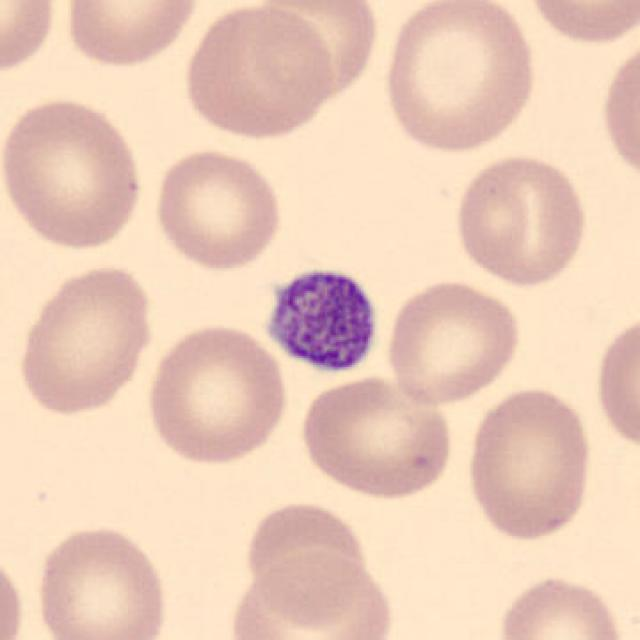Platelets: (254, 257, 386, 379)
RBC: (377, 0, 542, 157), (0, 92, 149, 254), (12, 261, 156, 420), (178, 0, 338, 143), (142, 319, 292, 469), (462, 382, 596, 544), (295, 372, 455, 502), (450, 148, 592, 289), (382, 275, 524, 409), (150, 145, 286, 273), (31, 520, 172, 640), (228, 545, 394, 638), (244, 0, 384, 108), (240, 497, 372, 608), (59, 0, 202, 71), (493, 571, 631, 640), (590, 307, 638, 458), (595, 31, 640, 190), (519, 0, 638, 48), (0, 0, 60, 81), (0, 545, 28, 640)
